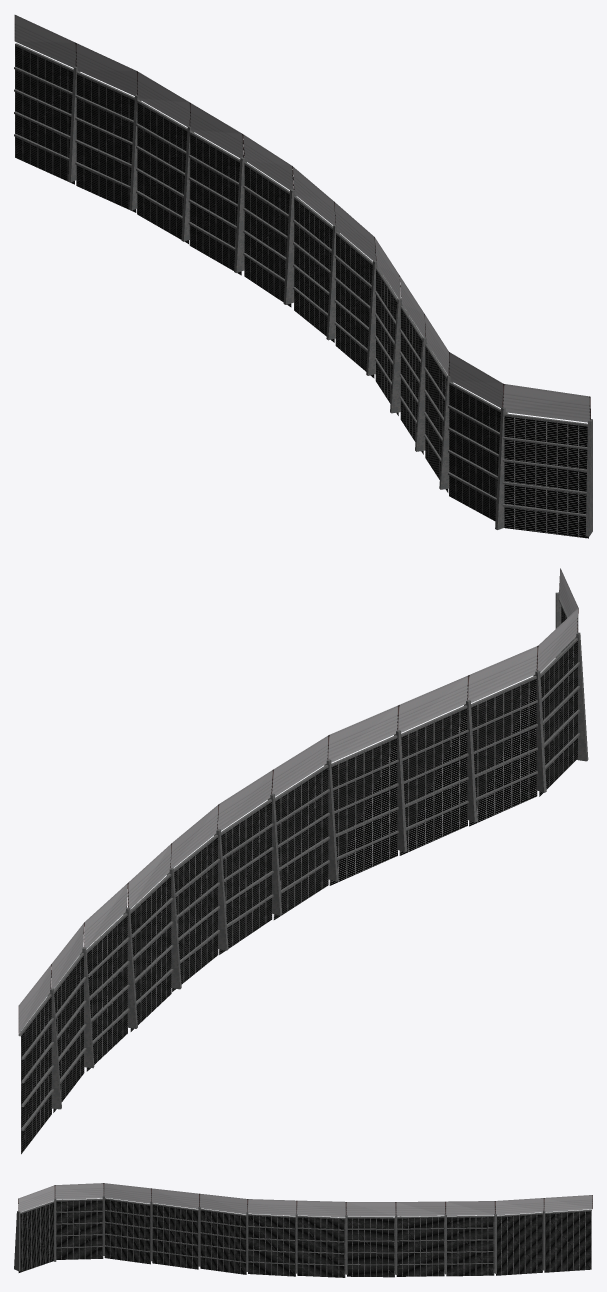
File: vgsselecfence18.obj
3 views of the same model, one above another, from view 1: azimuth 30°, elevation 25°; view 2: azimuth 150°, elevation 25°; view 3: azimuth 270°, elevation 25° (orthographic). The views are drawn at different scales.
Visible parts, largest first — view 1: vgsSelecfence18; view 2: vgsSelecfence18; view 3: vgsSelecfence18.
Boxes of the visible parts, left/top/right/bottom form: vgsSelecfence18: left=14, top=15, right=592, bottom=538; vgsSelecfence18: left=18, top=568, right=588, bottom=1154; vgsSelecfence18: left=14, top=1183, right=592, bottom=1277.
Bounding box in the file's own units: 5.26 × 8.91 × 58.79.
3 materials, 3 textured.
